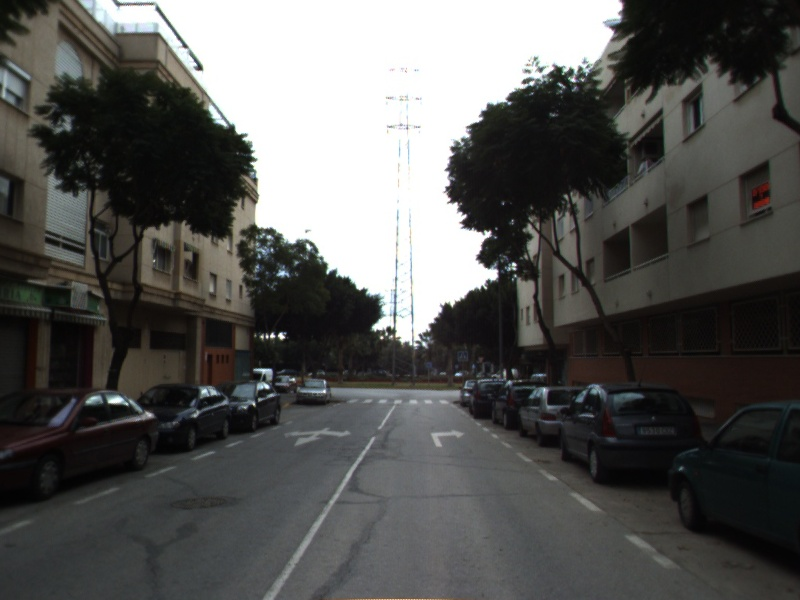RIGHT: (429, 427, 467, 449)
